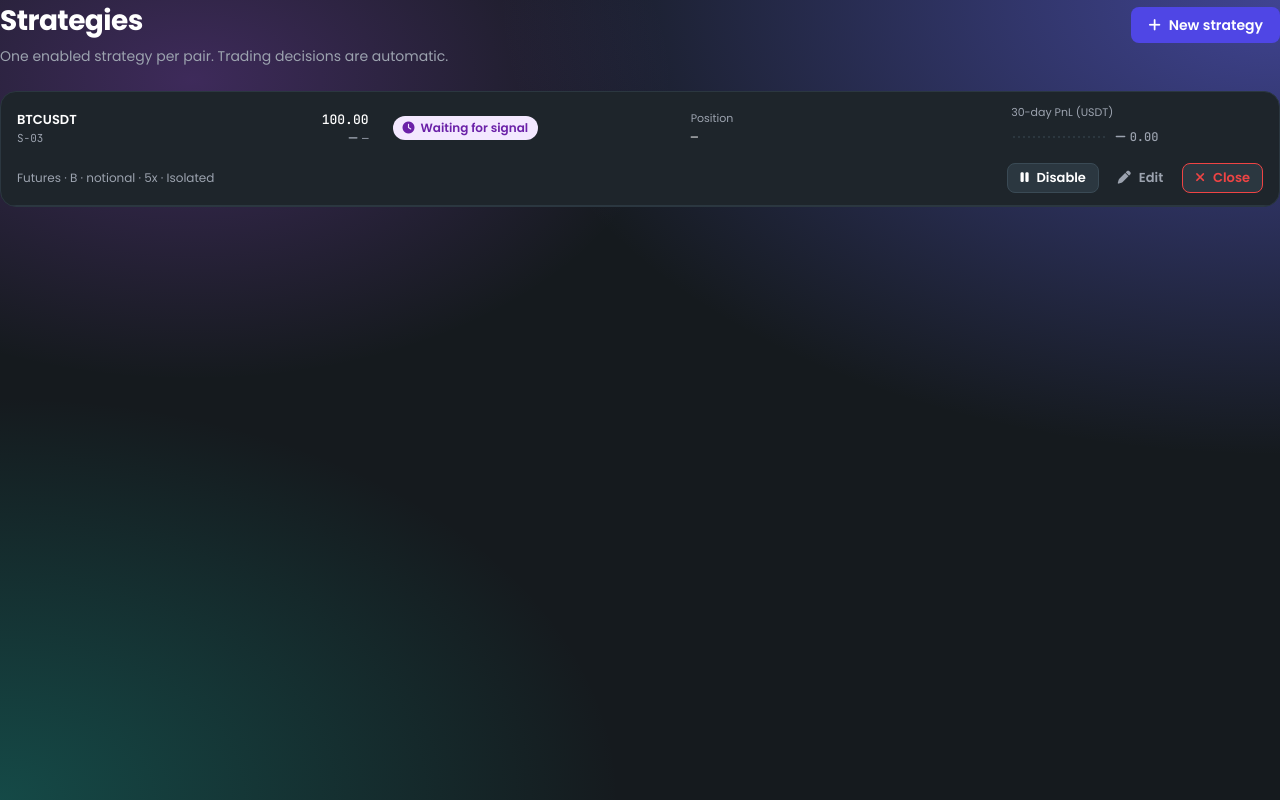
Scenario: Strategies page › closes a strategy with no position at market
Click the button "Close": (1223,178) [1182,162,1263,192]
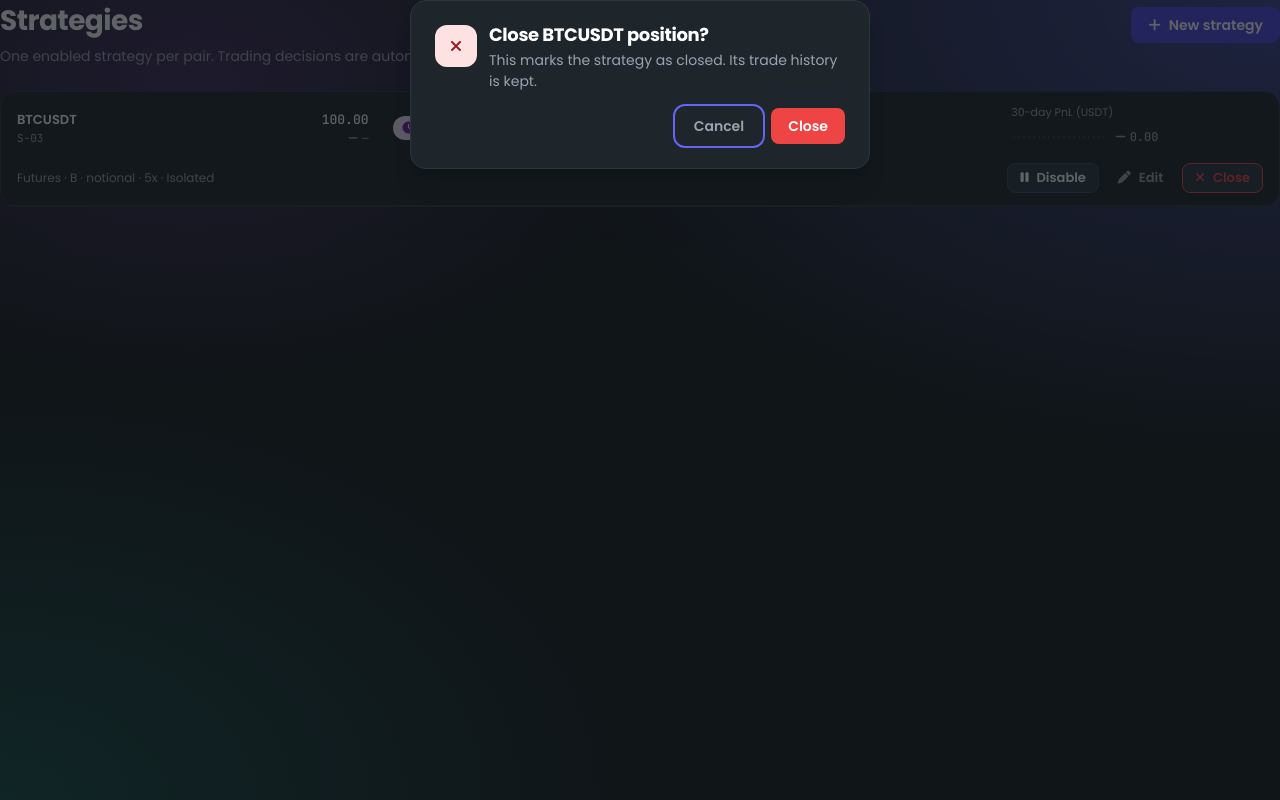
Result: the heading "Close BTCUSDT position?" is shown at [489,22,709,47]
Result: the text "This marks the strategy as closed. Its trade history is kept." is shown at [489,50,845,92]
Click the button "Close": (808,126) [771,108,845,144]
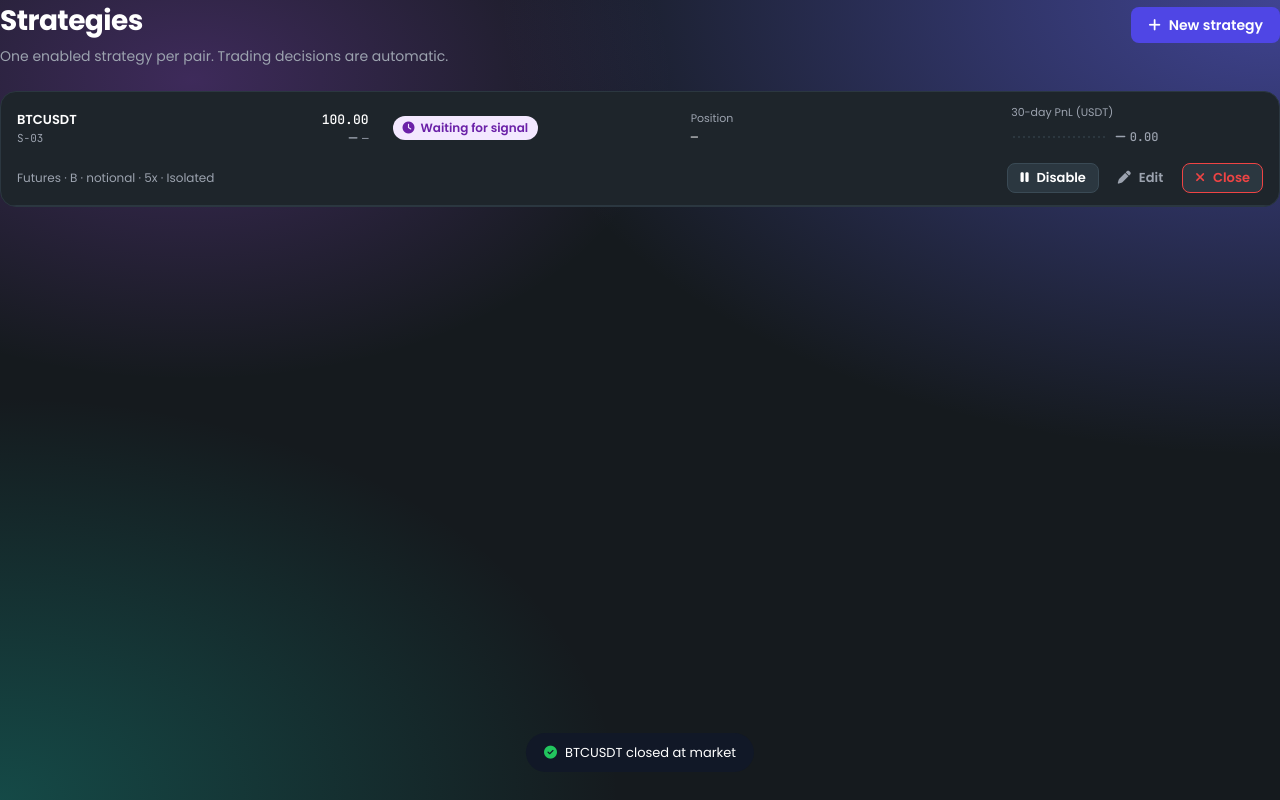
Result: the text "BTCUSDT closed at market" is shown at [526,732,754,772]
